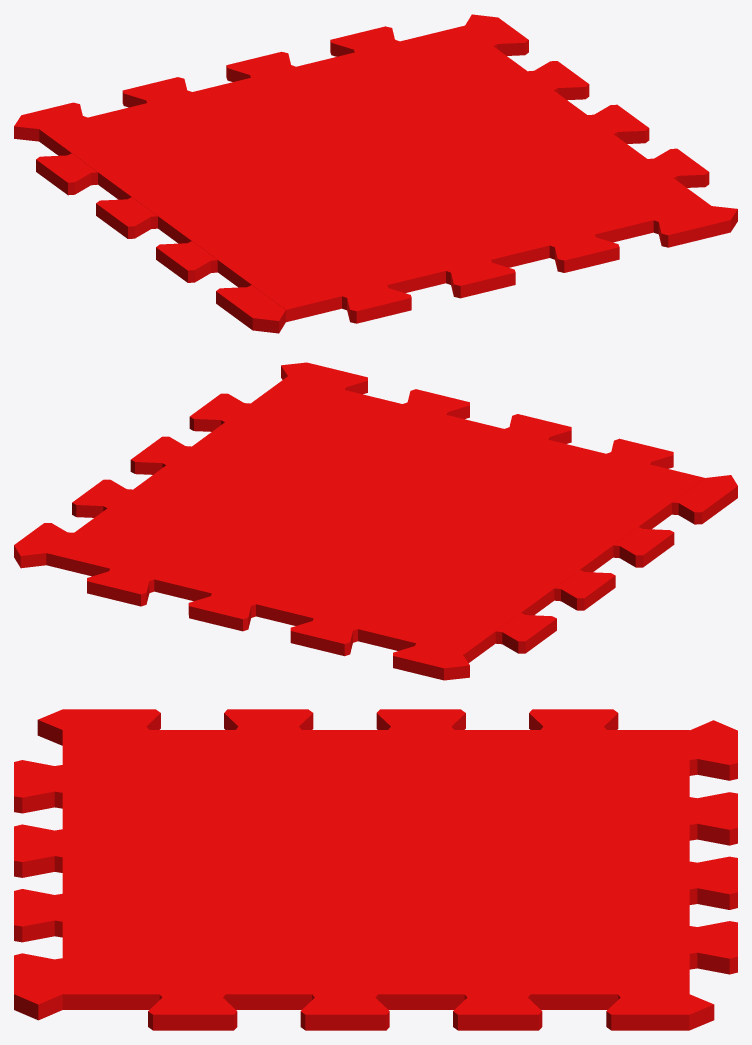
File: PuzzleMatRed.fbx
3 renders of one model, top to bottom at view 1: azimuth 30°, elevation 25°; view 2: azimuth 150°, elevation 25°; view 3: azimuth 270°, elevation 25°, orthographic. The views are drawn at different scales.
Parts seen in each view (by area): view 1: Cube; view 2: Cube; view 3: Cube.
Boxes of the visible parts, left/top/right/bottom form: Cube: left=14, top=14, right=737, bottom=333; Cube: left=14, top=362, right=737, bottom=680; Cube: left=14, top=709, right=737, bottom=1030.
Size of the model in its own units: 9.48 by 0.2291 by 9.5.
